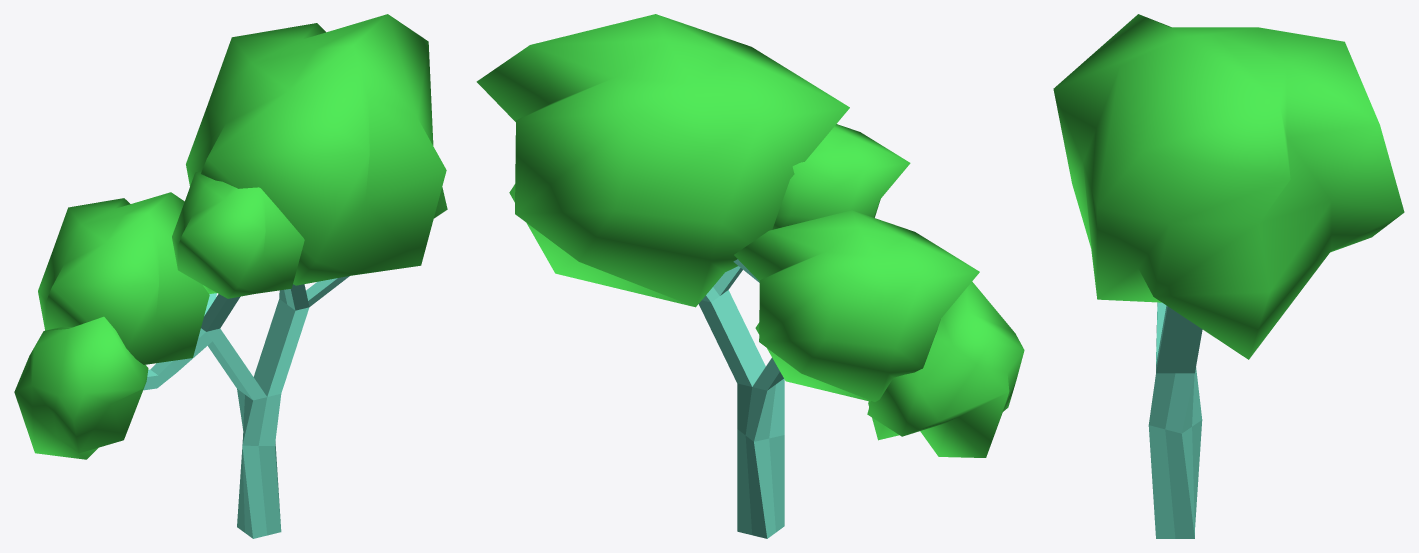
File: Arvore 1.fbx
3 views of the same model, side by side, from view 1: azimuth 30°, elevation 25°; view 2: azimuth 150°, elevation 25°; view 3: azimuth 270°, elevation 25° (orthographic). The views are drawn at different scales.
Visible parts, largest first — view 1: Folha, Icosphere.002, Icosphere.003, Arvore 1, Icosphere; view 2: Folha, Icosphere.002, Icosphere.003, Arvore 1, Icosphere; view 3: Folha, Arvore 1.
Boxes of the visible parts, left/top/right/bottom form: Folha: left=186, top=14, right=447, bottom=285; Icosphere.002: left=38, top=192, right=209, bottom=364; Icosphere.003: left=14, top=316, right=148, bottom=459; Arvore 1: left=143, top=276, right=349, bottom=538; Icosphere: left=172, top=171, right=304, bottom=298; Folha: left=476, top=14, right=849, bottom=307; Icosphere.002: left=734, top=210, right=979, bottom=401; Icosphere.003: left=867, top=281, right=1024, bottom=457; Arvore 1: left=699, top=259, right=784, bottom=538; Icosphere: left=772, top=124, right=910, bottom=229; Folha: left=1053, top=14, right=1404, bottom=359; Arvore 1: left=1148, top=302, right=1202, bottom=538.
Size of the model in its own units: 543 by 523 by 303.
